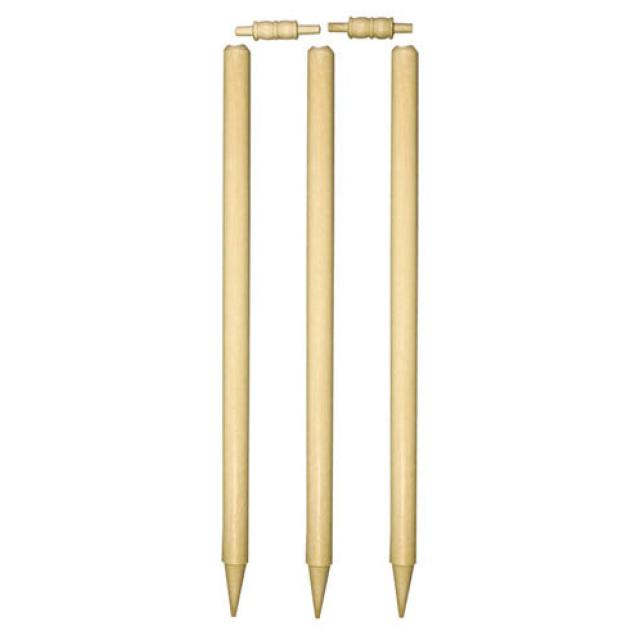stump: (224, 9, 420, 616)
